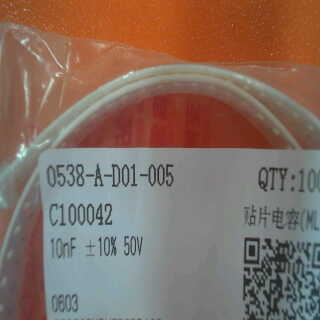10nF: (44, 234, 81, 264)
